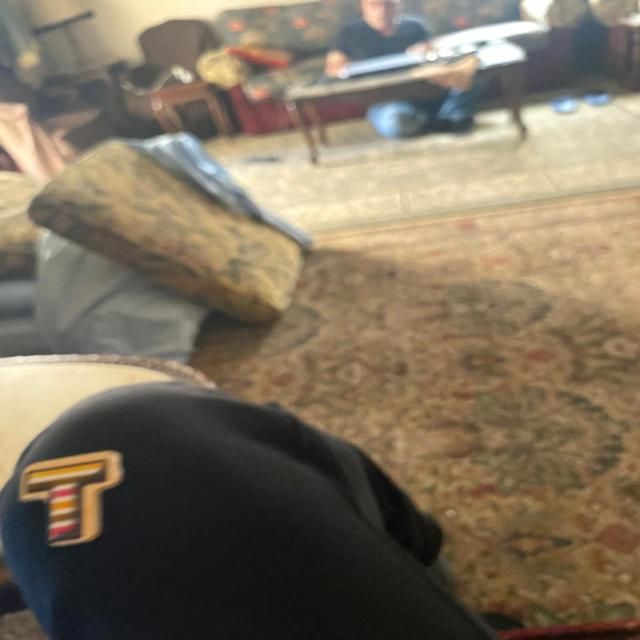T: (20, 450, 123, 546)
